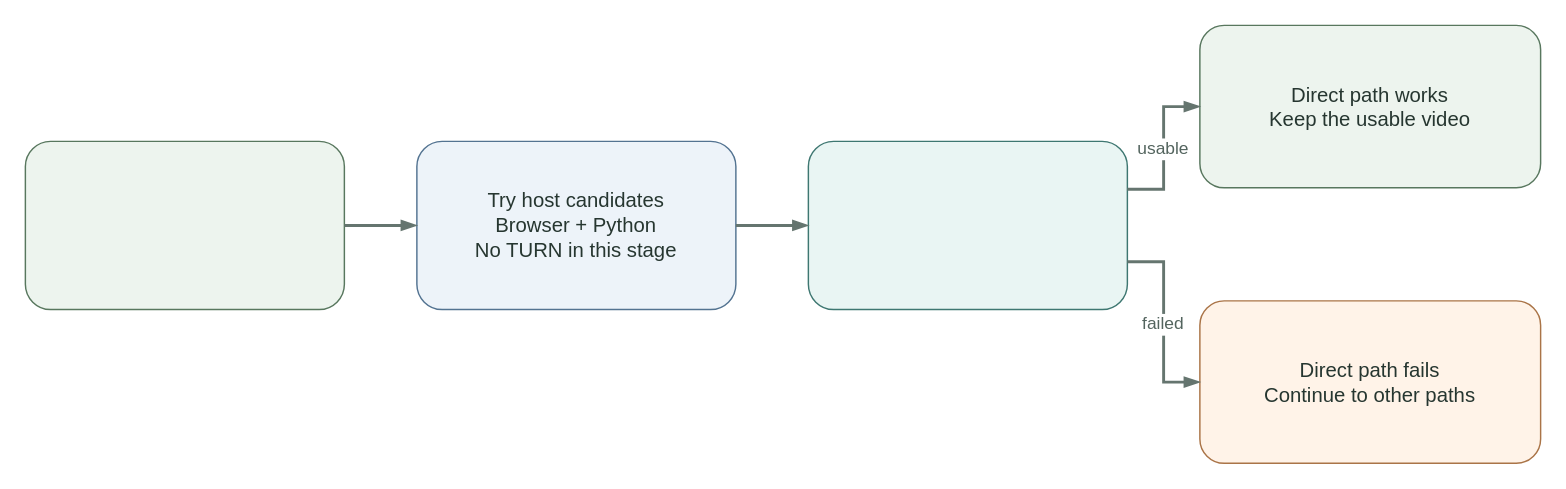
This 1566x489 diagram has some shape labels left out. The centre of each missing label's shape, as x and y in pixels:
"Open the website Stable domain via Tunnel Web entry responds" goes at point 184,225.
"Verify media ICE connection First + fresh frames" goes at point 967,225.
